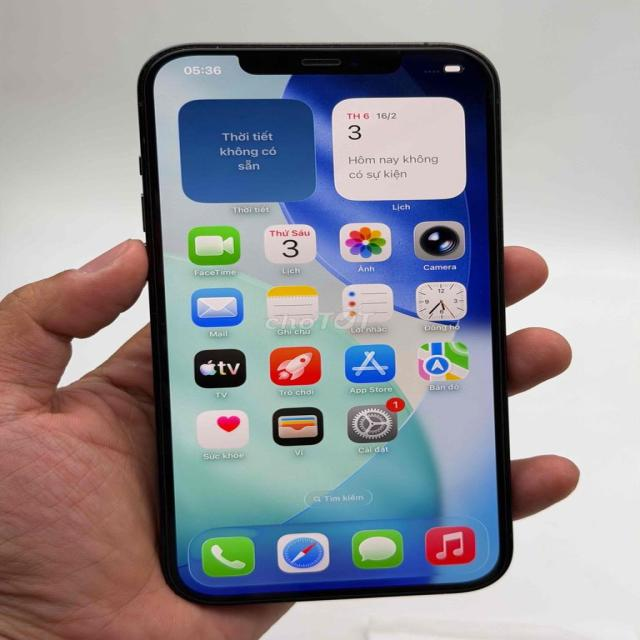gen_12_13: (135, 38, 517, 611)
